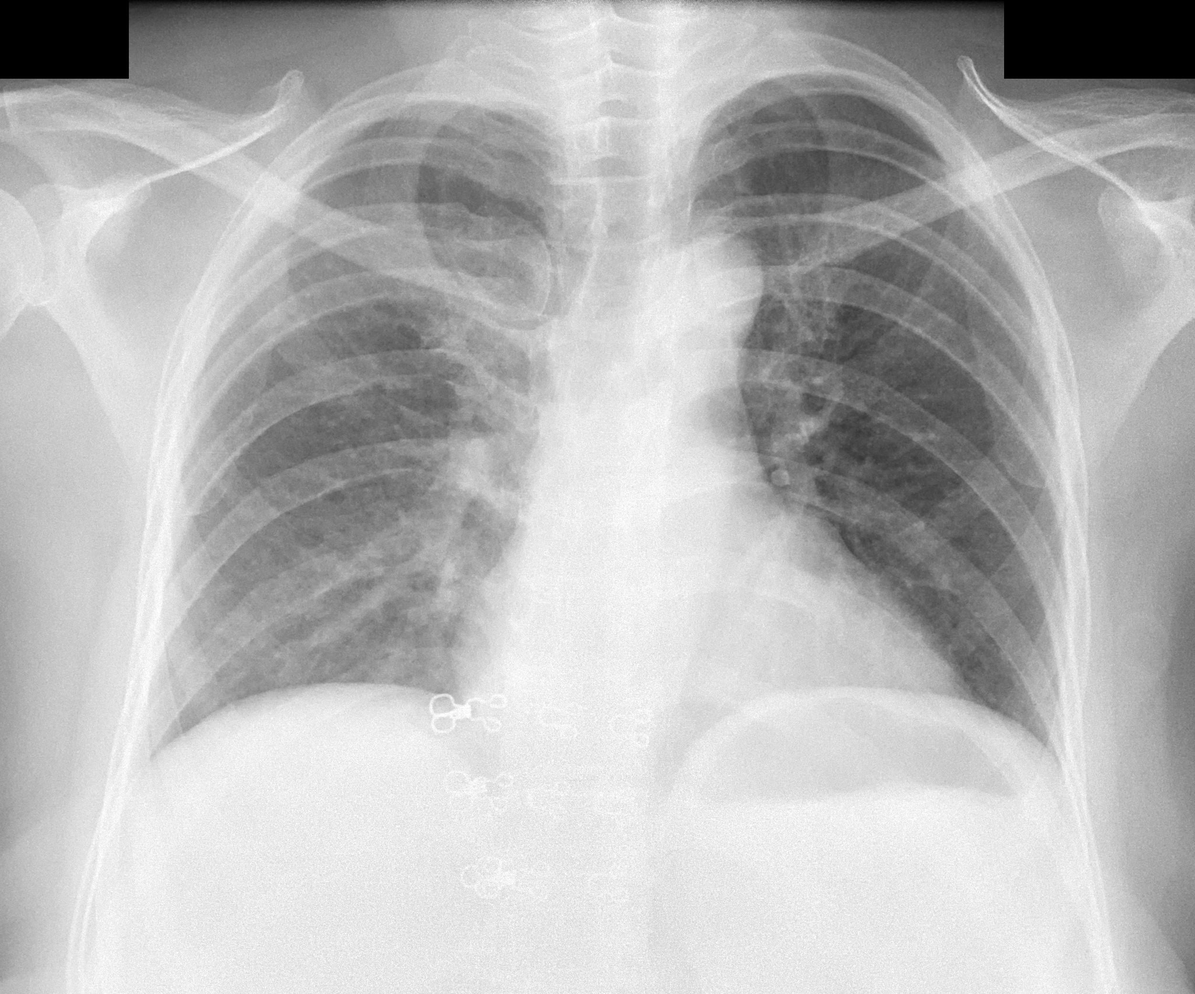Aortic enlargement: (657, 233, 764, 343)
Cardiomegaly: (451, 607, 984, 746)
